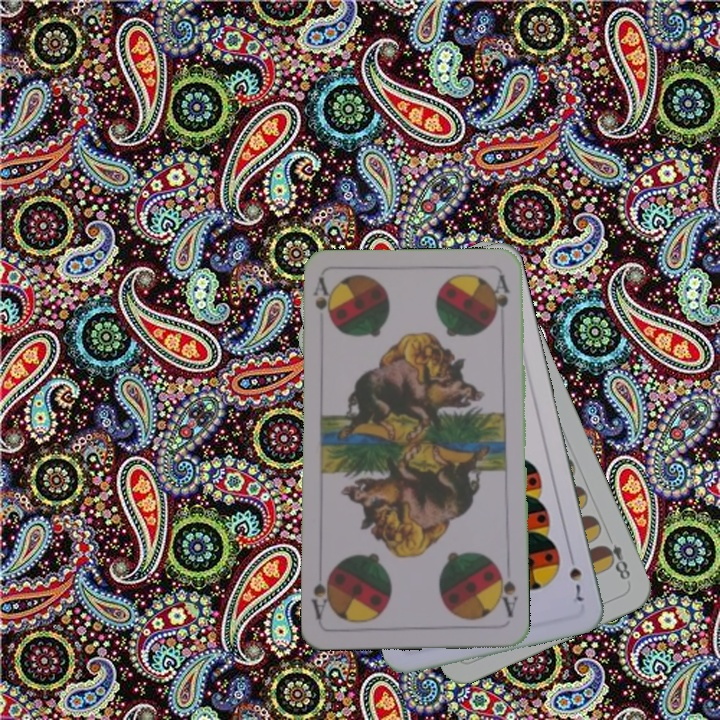E8: (597, 540, 633, 583)
S7: (565, 549, 586, 604)
SA: (493, 563, 520, 620), (309, 274, 332, 321)
